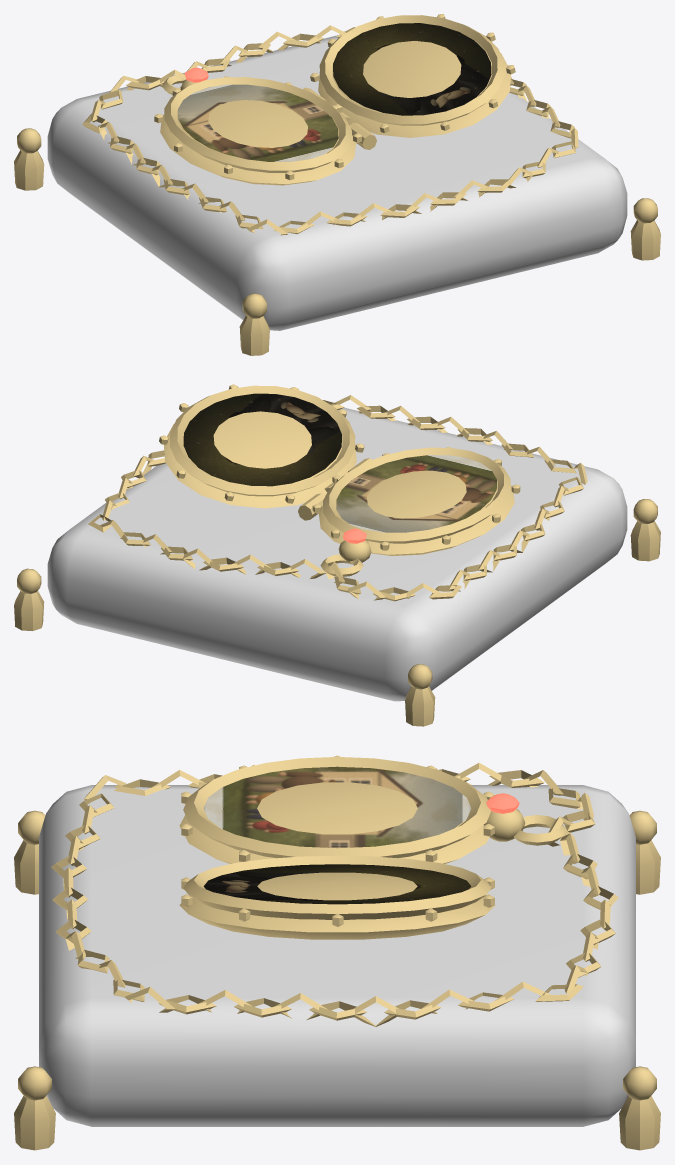
File: SM_Loot_Locket.fbx
3 renders of one model, top to bottom at view 1: azimuth 30°, elevation 25°; view 2: azimuth 150°, elevation 25°; view 3: azimuth 270°, elevation 25°, orthographic. The views are drawn at different scales.
Parts seen in each view (by area): view 1: SM_Loot_Locket_1; view 2: SM_Loot_Locket_1; view 3: SM_Loot_Locket_1.
Part boxes in pixels (x1,y1,x2,y2): SM_Loot_Locket_1: (14, 14, 660, 355); SM_Loot_Locket_1: (14, 384, 660, 726); SM_Loot_Locket_1: (14, 755, 660, 1150).
Size of the model in its own units: 8.02 by 2.83 by 8.02.
